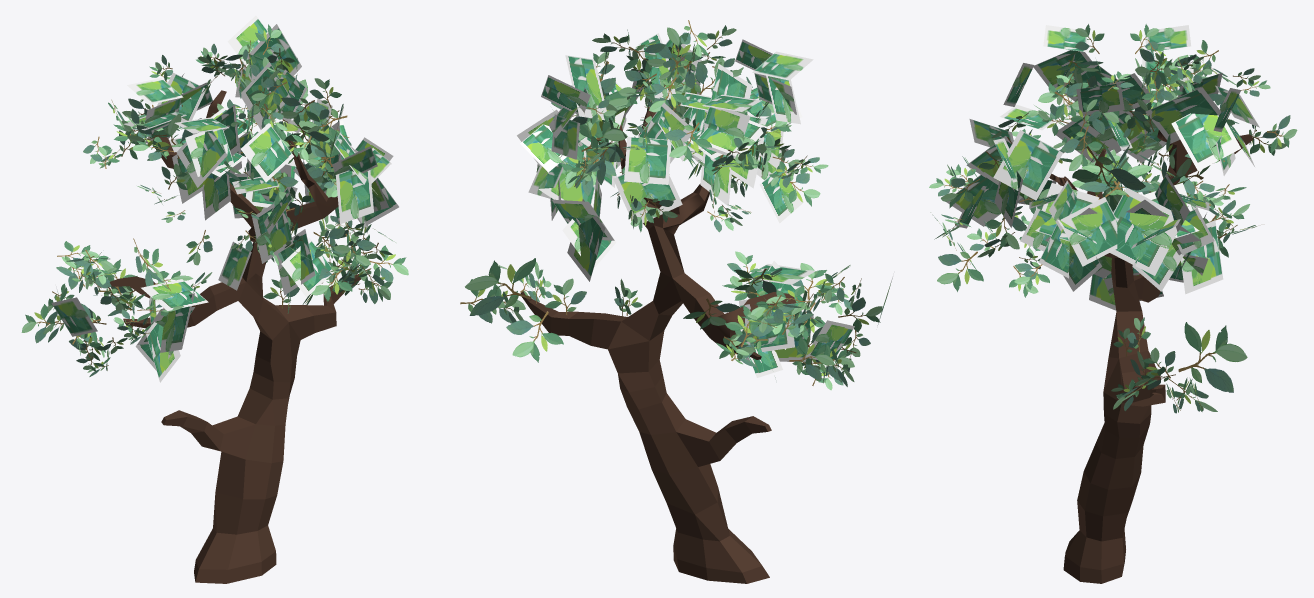
File: Tree_02_redone.fbx
The picture shows the model from 3 angles, left to right: view 1: azimuth 30°, elevation 25°; view 2: azimuth 150°, elevation 25°; view 3: azimuth 270°, elevation 25°; orthographic projection. The views are drawn at different scales.
Parts seen in each view (by area): view 1: Temp_Scene_Refine:polySurface2061, Temp_Scene_Refine:polySurface2020; view 2: Temp_Scene_Refine:polySurface2061, Temp_Scene_Refine:polySurface2020; view 3: Temp_Scene_Refine:polySurface2061, Temp_Scene_Refine:polySurface2020.
Boxes of the visible parts, x1=… form: Temp_Scene_Refine:polySurface2061: x1=21, y1=15, x2=408, y2=382; Temp_Scene_Refine:polySurface2020: x1=109, y1=90, x2=360, y2=583; Temp_Scene_Refine:polySurface2061: x1=460, y1=20, x2=892, y2=390; Temp_Scene_Refine:polySurface2020: x1=520, y1=107, x2=796, y2=583; Temp_Scene_Refine:polySurface2061: x1=929, y1=24, x2=1297, y2=413; Temp_Scene_Refine:polySurface2020: x1=1049, y1=97, x2=1253, y2=583.
Bounding box in the file's own units: 4.8 × 6.23 × 3.87.
